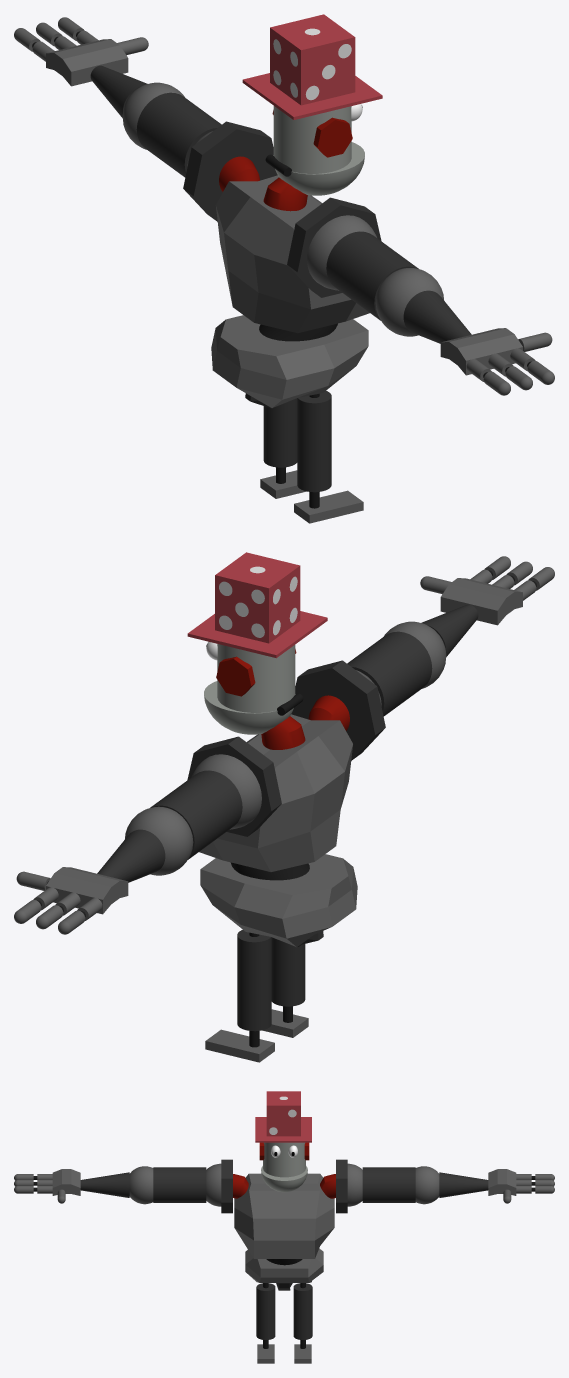
Rendered from hintrobot.fbx.
The picture shows the model from 3 angles, top to bottom: view 1: azimuth 30°, elevation 25°; view 2: azimuth 150°, elevation 25°; view 3: azimuth 270°, elevation 25°; orthographic projection. The views are drawn at different scales.
Parts seen in each view (by area): view 1: Cube.002, Cube.003, Cube, Cylinder.006, Cylinder.011, Cylinder.010, Cylinder, Cylinder.036, Cylinder.007, Cube.004, Sphere.007, Cube.001 (+13 smaller); view 2: Cube.002, Cube.003, Cube, Cylinder.007, Cylinder.010, Cylinder.011, Cylinder, Cylinder.037, Cylinder.006, Cube.005, Sphere.008, Cube.001 (+13 smaller); view 3: Cube.002, Cylinder.011, Cylinder.010, Cube.003, Cube, Cylinder, Cylinder.036, Cylinder.037, Cylinder.012, Cylinder.024, Sphere.008, Sphere.007 (+8 smaller).
Part boxes in pixels (left/top/right/bottom): Cube.002: left=216, top=175, right=369, bottom=333; Cube.003: left=211, top=315, right=368, bottom=407; Cube: left=270, top=14, right=355, bottom=105; Cylinder.006: left=183, top=121, right=277, bottom=221; Cylinder.011: left=136, top=92, right=221, bottom=177; Cylinder.010: left=326, top=231, right=418, bottom=320; Cylinder: left=273, top=106, right=351, bottom=173; Cylinder.036: left=297, top=391, right=331, bottom=492; Cylinder.007: left=287, top=197, right=381, bottom=297; Cube.004: left=46, top=39, right=128, bottom=86; Sphere.007: left=375, top=268, right=443, bottom=336; Cube.001: left=242, top=73, right=382, bottom=119; Cube.002: left=199, top=714, right=352, bottom=871; Cube.003: left=200, top=854, right=357, bottom=946; Cube: left=215, top=552, right=300, bottom=643; Cylinder.007: left=291, top=660, right=385, bottom=760; Cylinder.010: left=347, top=631, right=432, bottom=716; Cylinder.011: left=150, top=770, right=242, bottom=859; Cylinder: left=217, top=644, right=295, bottom=712; Cylinder.037: left=237, top=930, right=271, bottom=1031; Cylinder.006: left=187, top=736, right=281, bottom=836; Cube.005: left=440, top=578, right=522, bottom=625; Sphere.008: left=125, top=806, right=193, bottom=875; Cube.001: left=187, top=611, right=327, bottom=658; Cube.002: left=234, top=1173, right=334, bottom=1258; Cylinder.011: left=362, top=1167, right=415, bottom=1202; Cylinder.010: left=153, top=1167, right=206, bottom=1202; Cube.003: left=245, top=1248, right=323, bottom=1282; Cube: left=266, top=1091, right=300, bottom=1136; Cylinder: left=263, top=1142, right=305, bottom=1177; Cylinder.036: left=256, top=1283, right=275, bottom=1339; Cylinder.037: left=293, top=1283, right=312, bottom=1339; Cylinder.012: left=439, top=1172, right=488, bottom=1197; Cylinder.024: left=80, top=1172, right=129, bottom=1197; Sphere.008: left=415, top=1166, right=439, bottom=1204; Sphere.007: left=129, top=1166, right=153, bottom=1204.
Size of the model in its own units: 405 by 1323 by 2513.
